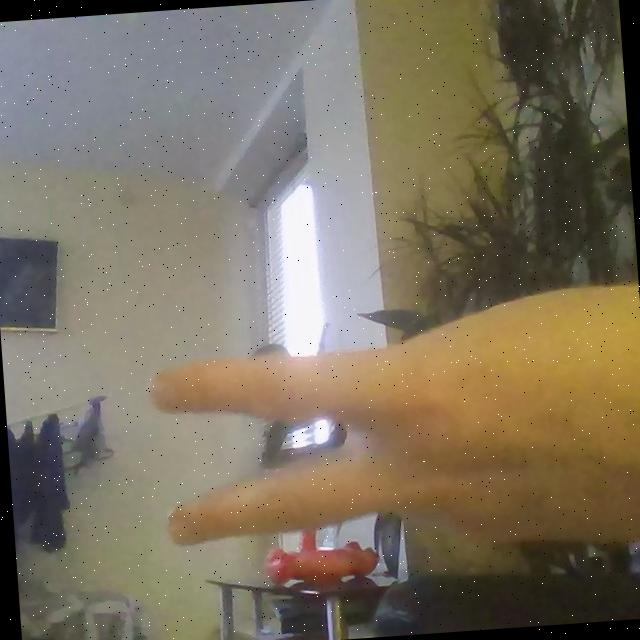scissors: (146, 300, 568, 574)
